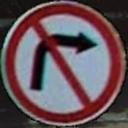NoVirarDireita: (4, 3, 124, 124)
